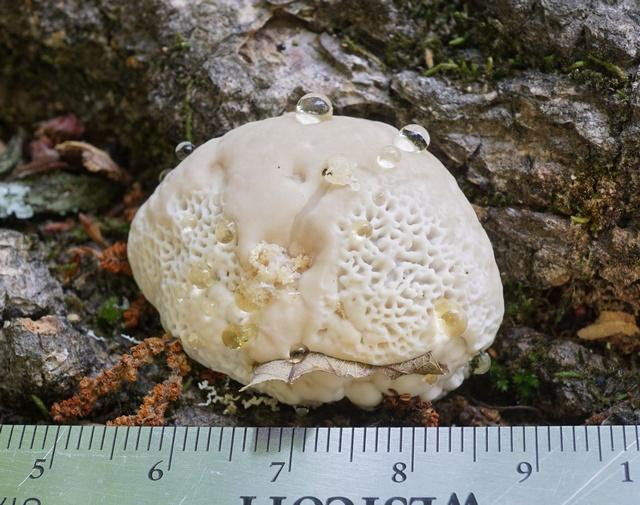Non-edible Mushroom: (125, 92, 506, 413)
